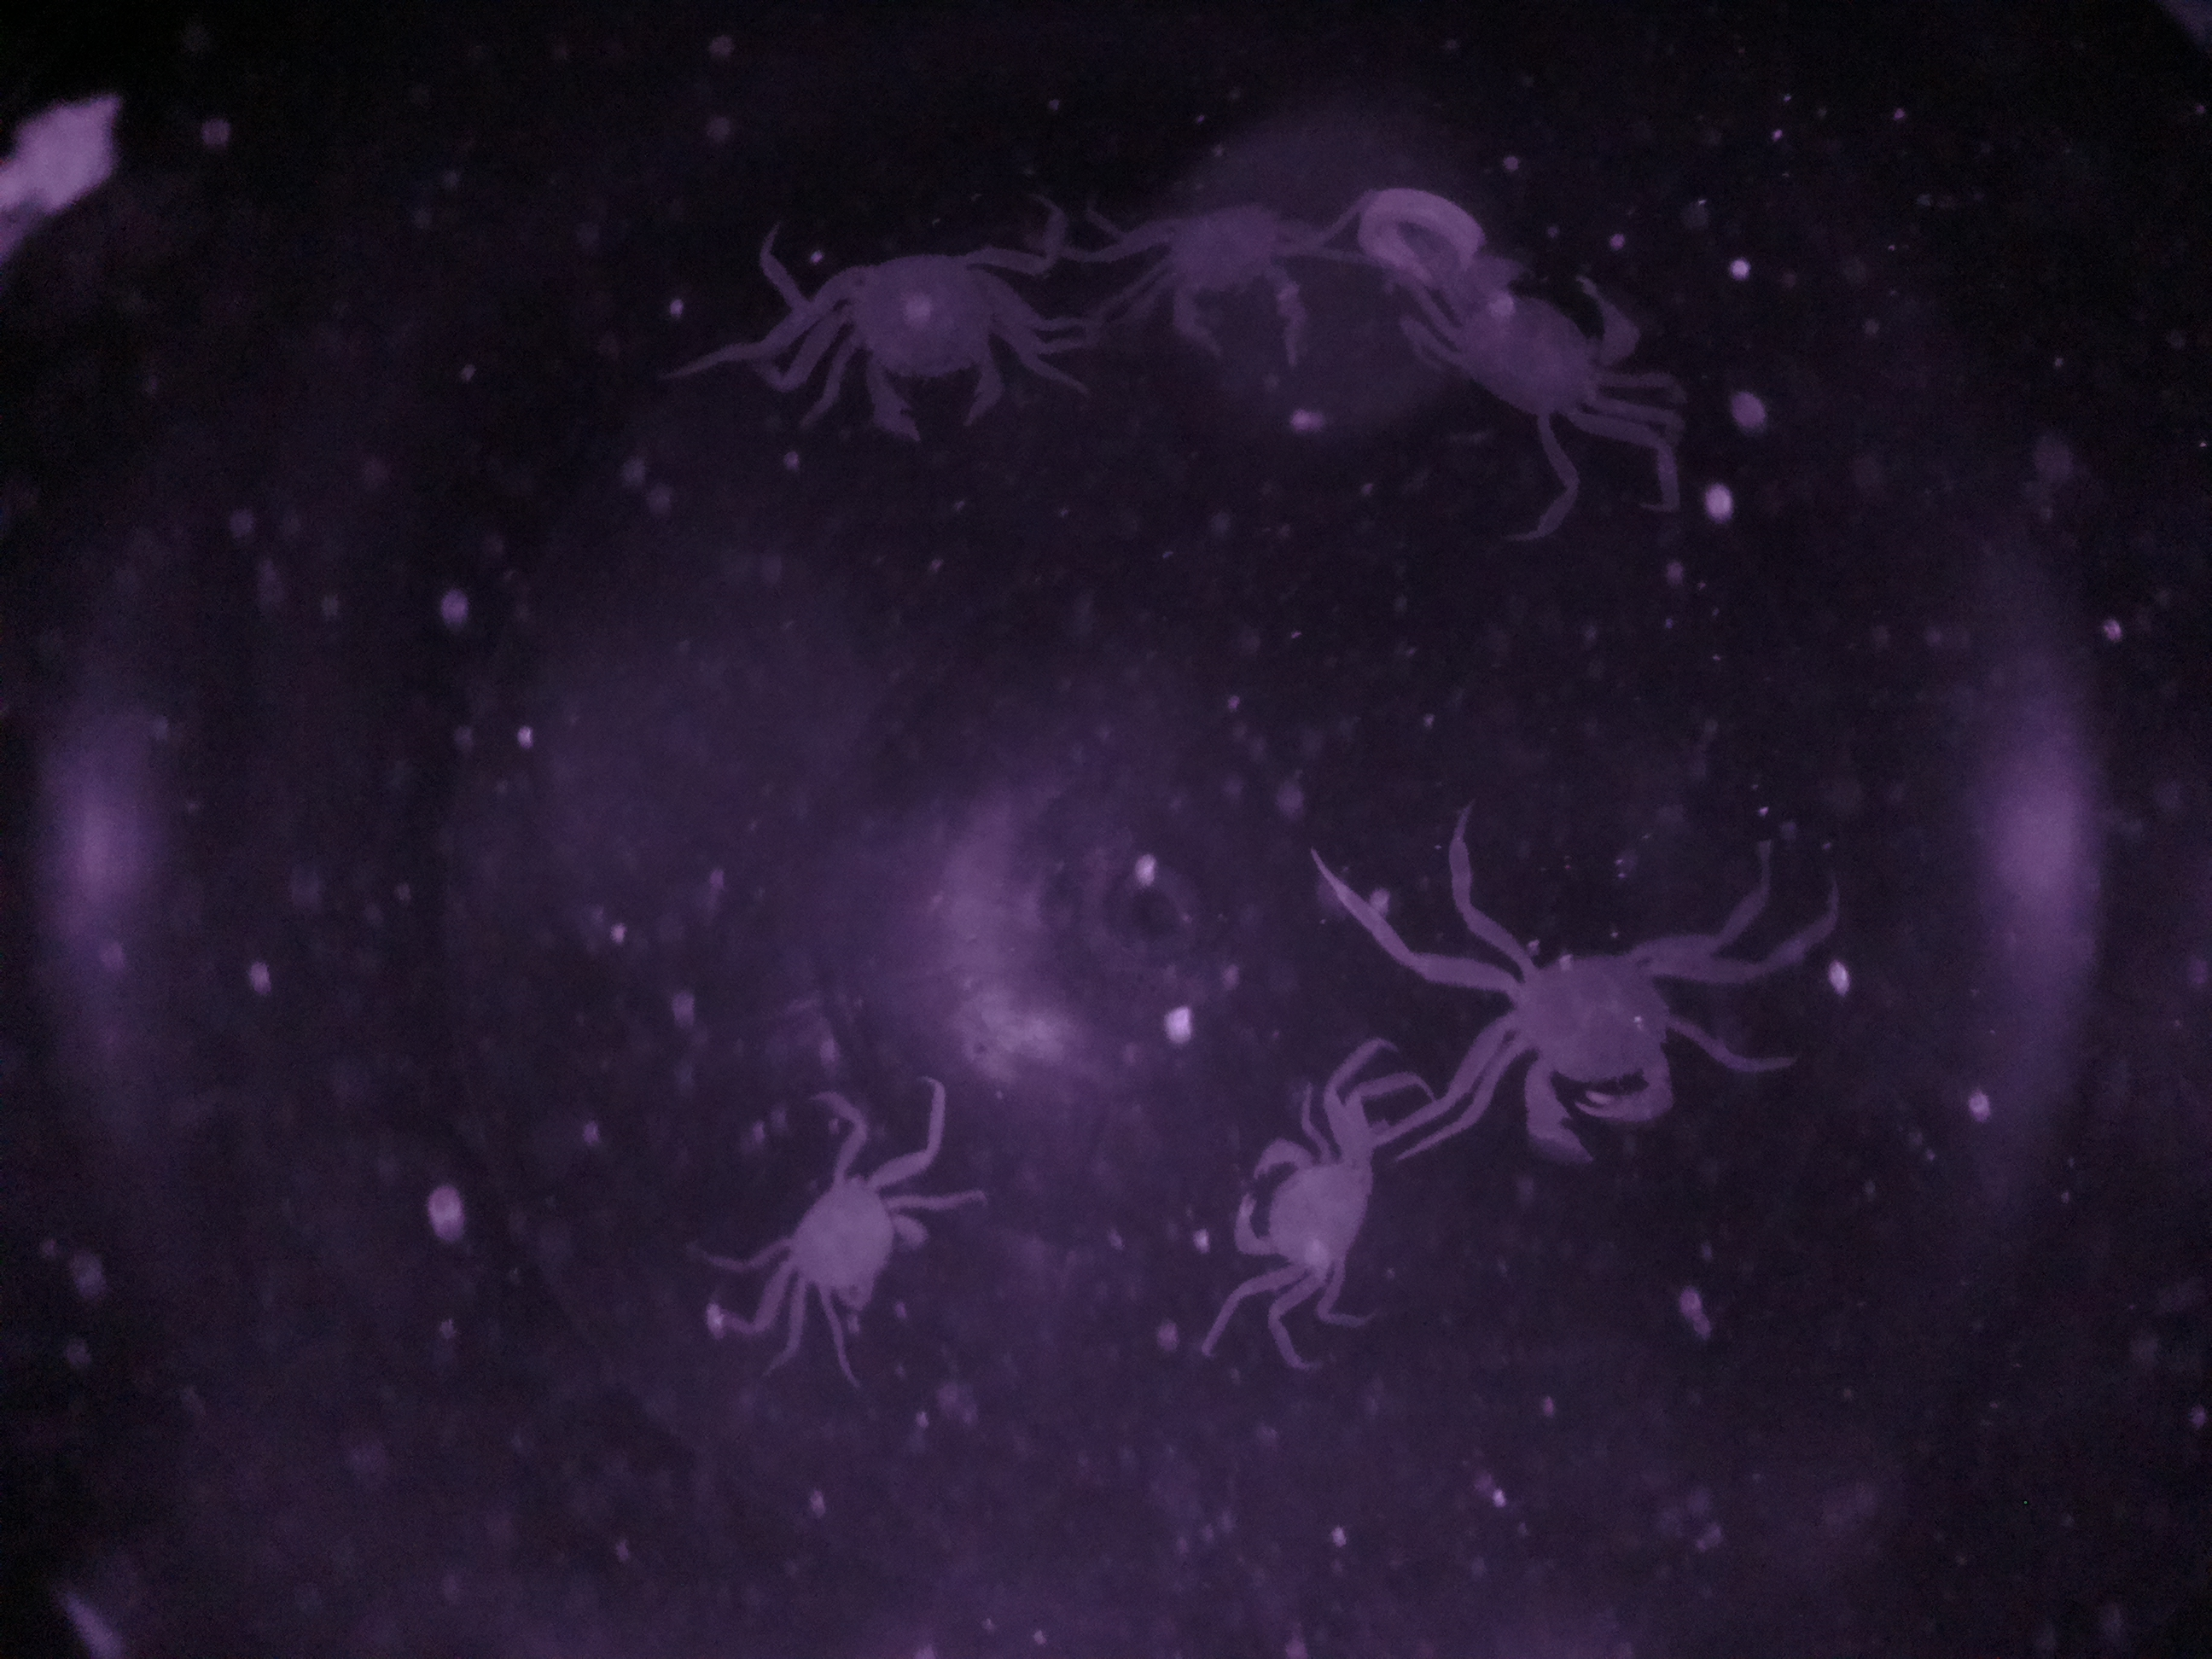Crab: (1432, 904, 1733, 1182), (1381, 218, 1677, 469), (787, 218, 1076, 469), (1193, 1066, 1404, 1309), (745, 1127, 961, 1340)
